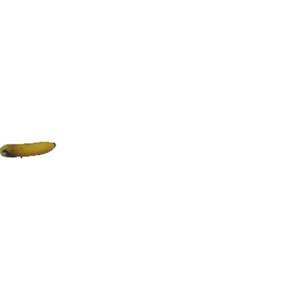banana: (1, 134, 58, 165)
